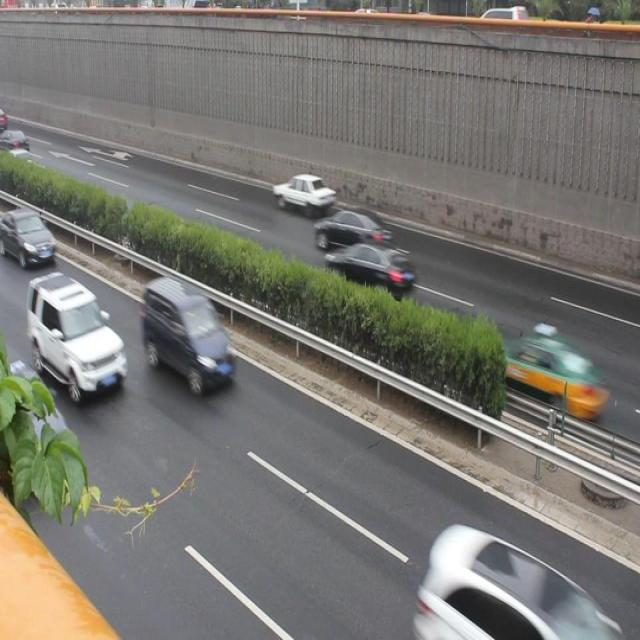car: (419, 515, 611, 640), (27, 273, 130, 400), (478, 327, 602, 427), (1, 363, 83, 484), (326, 236, 413, 301), (314, 205, 394, 255), (1, 202, 58, 266), (268, 168, 333, 218)
truck: (144, 276, 240, 390)
